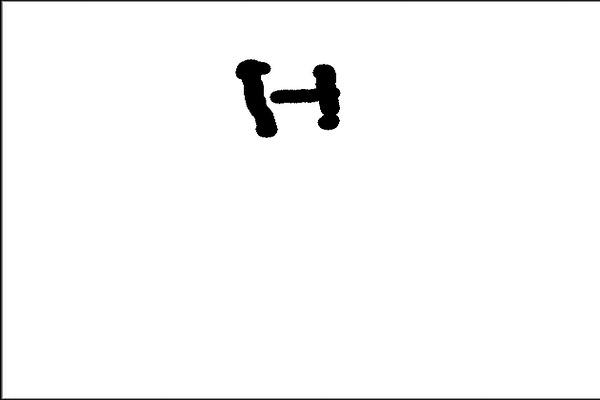H: (234, 49, 350, 143)
